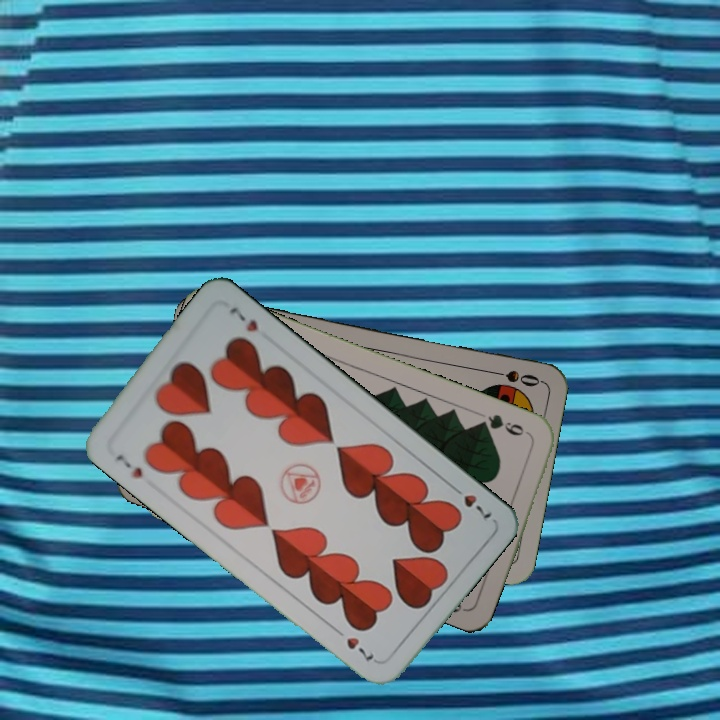G9: (474, 410, 534, 439)
H7: (446, 480, 495, 523), (112, 450, 146, 481)
SO: (484, 366, 543, 389)
